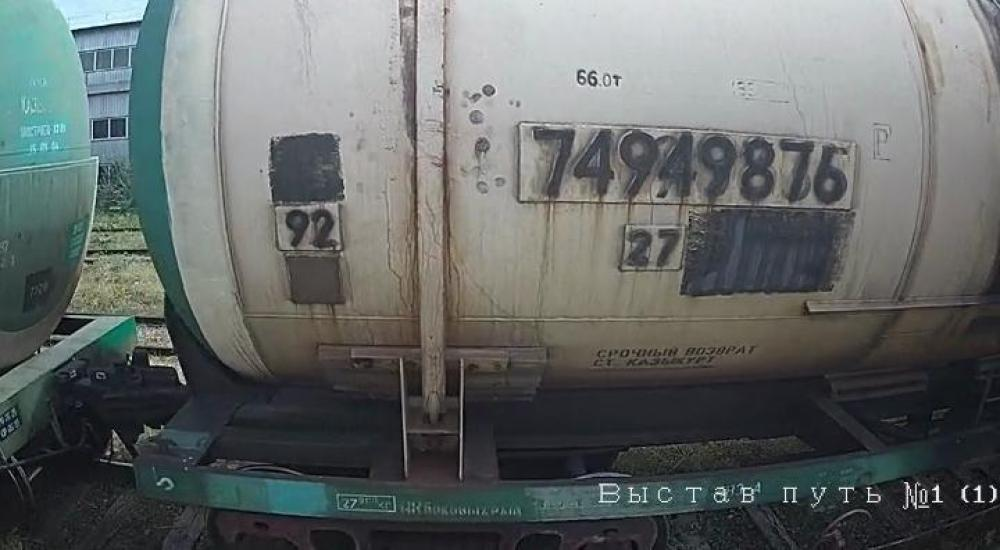Wagon-number: (528, 124, 854, 210)
